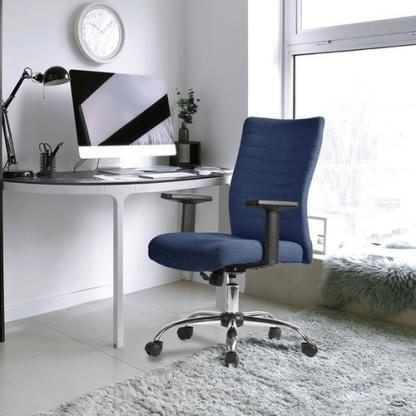chair: (136, 117, 325, 369)
clock: (62, 0, 129, 66)
table: (0, 155, 231, 347)
